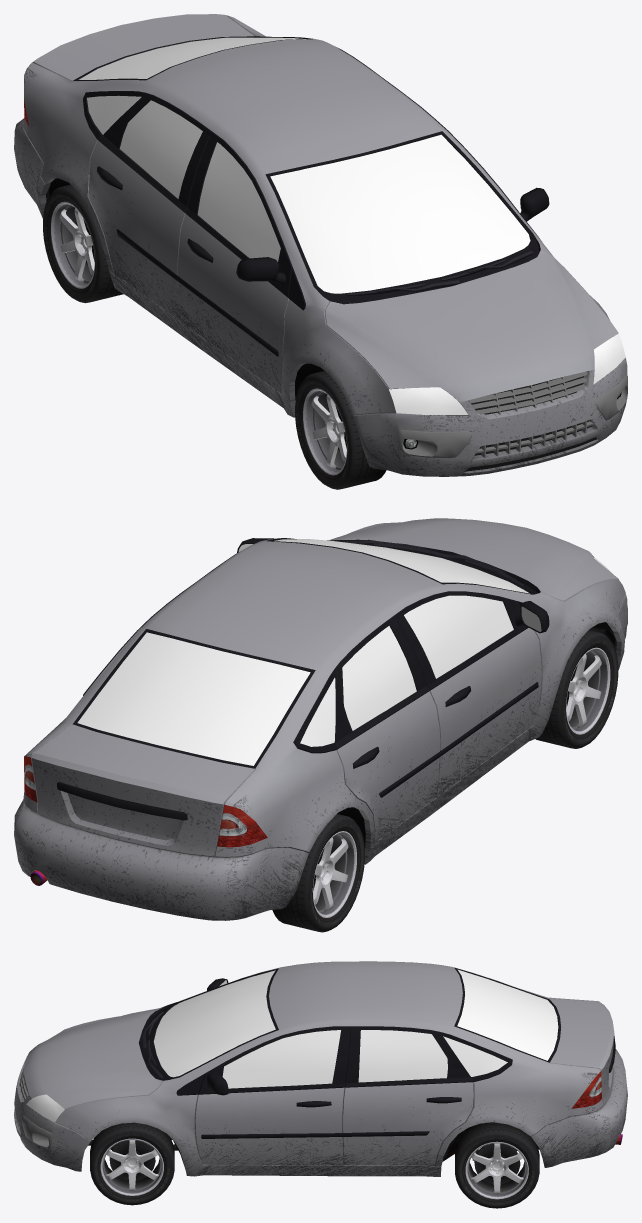
File: Car Trunk Fixed.fbx
3 renders of one model, top to bottom at view 1: azimuth 30°, elevation 25°; view 2: azimuth 150°, elevation 25°; view 3: azimuth 270°, elevation 25°, orthographic. The views are drawn at different scales.
Parts seen in each view (by area): view 1: Tocus_Body, Tocus_Win_Front, Tocus_Hood_Front, Tocus_Bamper_Front, Tocus_Door_Right_Front, Tocus_Door_Right_Back, Tocus_Wheel_Right_Front, Tocus_Hood_Back, Tocus_Wheel_Right_Back, Tocus_Win_Door_Right_Front, Tocus_Win_Door_Right_Back, Tocus_Win_Back (+6 smaller); view 2: Tocus_Body, Tocus_Hood_Back, Tocus_Win_Back, Tocus_Bamper_Back, Tocus_Door_Right_Front, Tocus_Door_Right_Back, Tocus_Hood_Front, Tocus_Wheel_Right_Back, Tocus_Wheel_Right_Front, Tocus_Win_Door_Right_Front, Tocus_Win_Door_Right_Back, Tocus_Win_Front (+5 smaller); view 3: Tocus_Body, Tocus_Door_Left_Front, Tocus_Door_Left_Back, Tocus_Hood_Front, Tocus_Win_Front, Tocus_Wheel_Left_Back, Tocus_Wheel_Left_Font, Tocus_Win_Back, Tocus_Win_Door_Left_Front, Tocus_Bamper_Back, Tocus_Win_Door_Left_Back, Tocus_Hood_Back (+5 smaller).
Boxes of the visible parts, x1,y1,x2,y2 form: Tocus_Body: (23,15,618,417); Tocus_Win_Front: (270,134,530,293); Tocus_Hood_Front: (325,250,618,402); Tocus_Bamper_Front: (353,357,627,476); Tocus_Door_Right_Front: (177,131,292,392); Tocus_Door_Right_Back: (88,93,211,320); Tocus_Wheel_Right_Front: (295,371,386,489); Tocus_Hood_Back: (32,14,254,80); Tocus_Wheel_Right_Back: (43,184,123,303); Tocus_Win_Door_Right_Front: (197,142,280,261); Tocus_Win_Door_Right_Back: (119,100,202,198); Tocus_Win_Back: (79,37,305,79); Tocus_Body: (23,538,625,864); Tocus_Hood_Back: (31,724,255,857); Tocus_Win_Back: (77,632,310,765); Tocus_Bamper_Back: (14,799,308,920); Tocus_Door_Right_Front: (394,591,549,797); Tocus_Door_Right_Back: (334,615,441,844); Tocus_Hood_Front: (329,518,618,601); Tocus_Wheel_Right_Back: (272,814,364,932); Tocus_Wheel_Right_Front: (535,630,618,748); Tocus_Win_Door_Right_Front: (404,595,513,678); Tocus_Win_Door_Right_Back: (342,626,416,730); Tocus_Win_Front: (274,539,529,593); Tocus_Body: (55,961,603,1176); Tocus_Door_Left_Front: (195,1026,350,1165); Tocus_Door_Left_Back: (342,1026,473,1166); Tocus_Hood_Front: (23,1007,162,1108); Tocus_Win_Front: (153,970,275,1077); Tocus_Wheel_Left_Back: (455,1122,539,1208); Tocus_Wheel_Left_Font: (90,1122,174,1205); Tocus_Win_Back: (457,969,558,1060); Tocus_Win_Door_Left_Front: (222,1030,340,1088); Tocus_Bamper_Back: (531,1049,627,1167); Tocus_Win_Door_Left_Back: (358,1030,447,1082); Tocus_Hood_Back: (550,999,615,1104).
Bounding box in the file's own units: 185 × 139 × 445.
